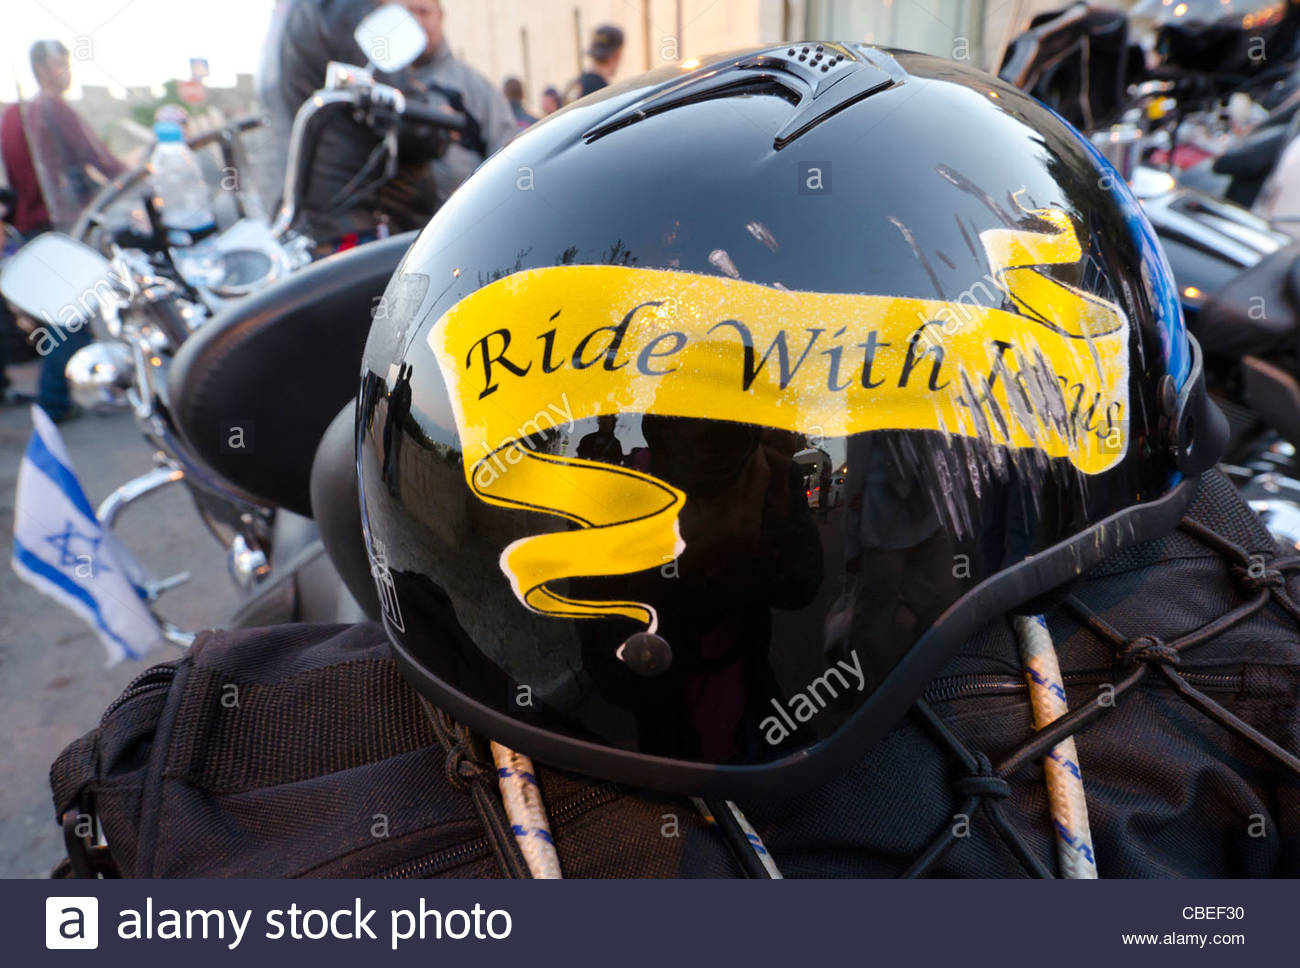with_helmet: (343, 28, 1245, 804)
